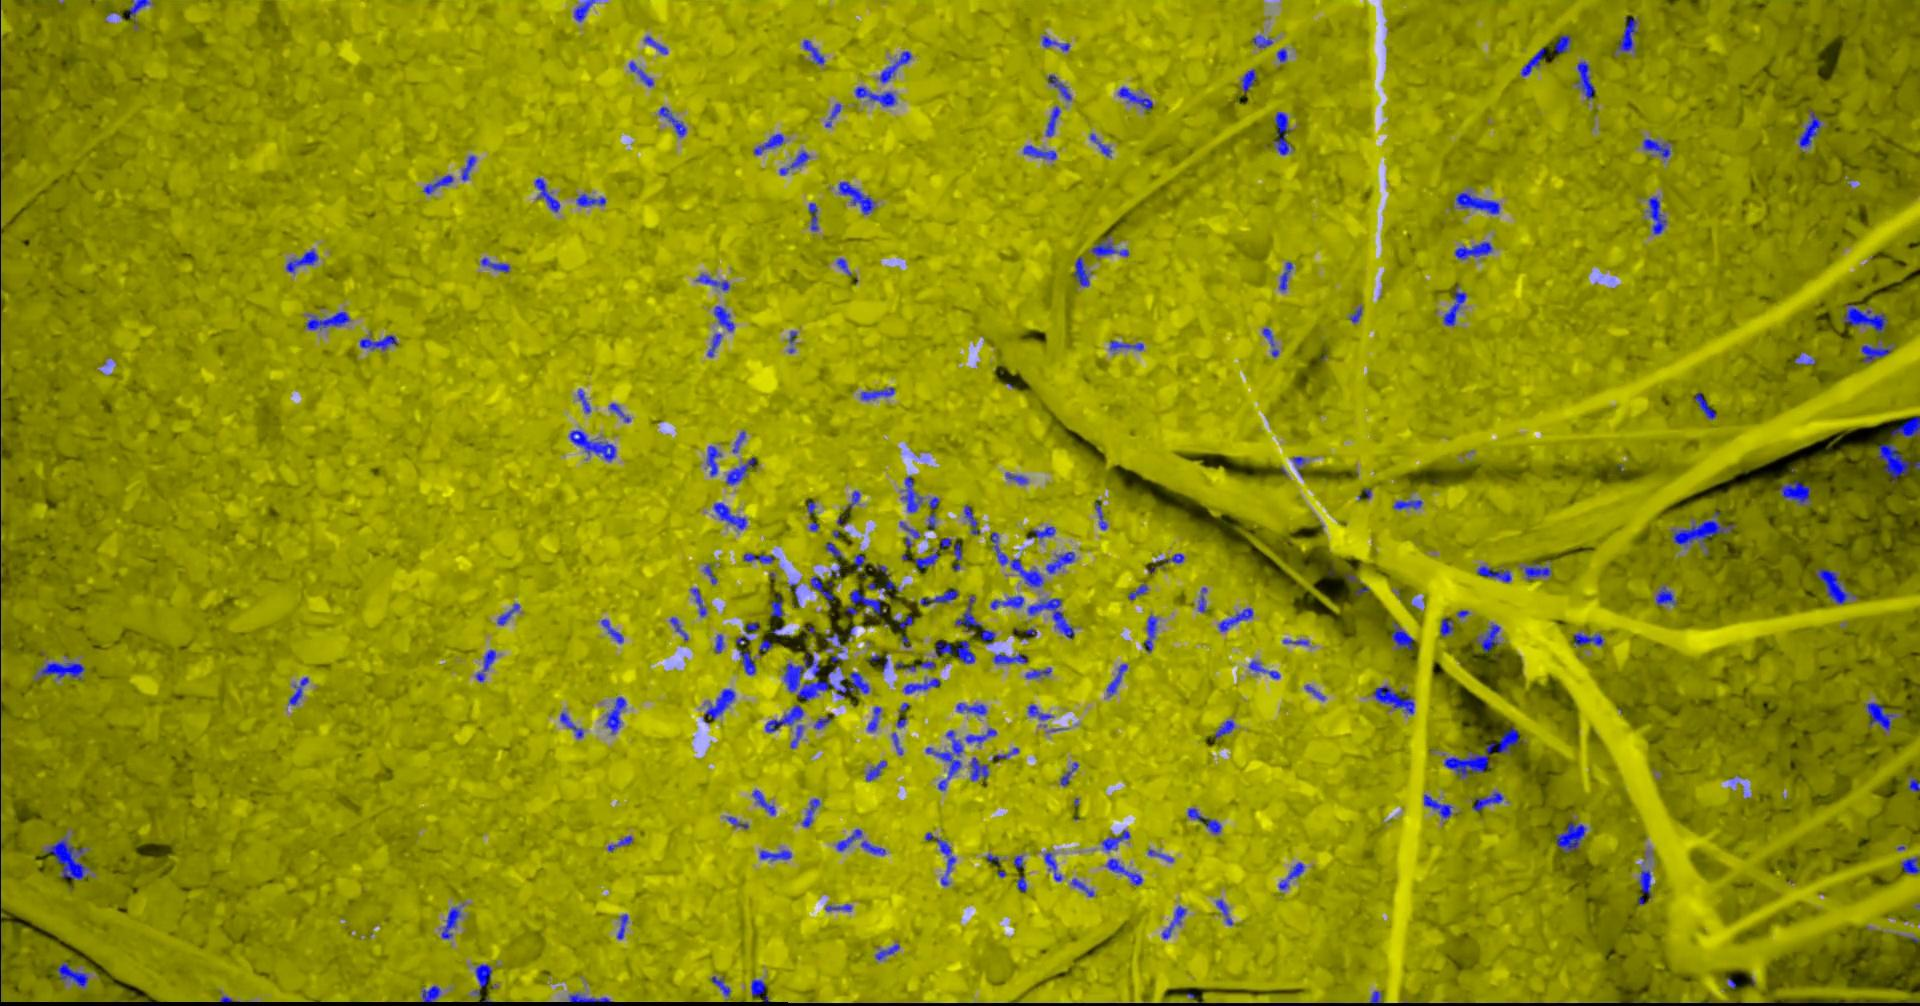ant: (1443, 727, 1523, 777), (989, 532, 1043, 586), (783, 652, 837, 700), (924, 730, 963, 790), (1671, 511, 1735, 546), (44, 837, 89, 879), (1027, 598, 1073, 638), (1877, 443, 1919, 483), (924, 832, 955, 885), (1815, 567, 1855, 605), (568, 429, 615, 460), (1843, 304, 1887, 333), (1371, 685, 1413, 714), (838, 180, 874, 213), (844, 589, 886, 616), (764, 704, 803, 732), (879, 50, 910, 83), (954, 594, 982, 631), (1105, 857, 1142, 885), (1455, 192, 1498, 213), (1443, 285, 1465, 325), (703, 688, 734, 719), (1556, 821, 1585, 852), (935, 640, 974, 663), (712, 502, 745, 528), (1187, 807, 1220, 833), (535, 177, 559, 212), (1218, 607, 1253, 631), (36, 662, 84, 680), (658, 105, 686, 136), (1117, 86, 1152, 111), (1798, 109, 1820, 147), (1272, 111, 1291, 154), (1865, 702, 1895, 730), (855, 86, 897, 105), (836, 671, 869, 695), (1161, 904, 1185, 937), (1091, 235, 1128, 257), (604, 696, 626, 733), (305, 311, 349, 329), (726, 457, 756, 484), (778, 150, 809, 175), (57, 962, 88, 987), (284, 249, 317, 272), (1575, 60, 1594, 99), (1520, 47, 1545, 76), (1779, 480, 1810, 504), (902, 476, 922, 512), (940, 537, 961, 570), (1106, 663, 1128, 696), (439, 906, 461, 939), (1277, 862, 1304, 889), (810, 575, 833, 606), (1648, 196, 1666, 234), (1454, 241, 1492, 259), (1423, 794, 1451, 818), (1390, 621, 1413, 650), (753, 133, 783, 155), (1617, 17, 1636, 51), (475, 649, 495, 681), (750, 789, 775, 815), (1045, 551, 1074, 573), (919, 588, 957, 605), (1470, 791, 1503, 810), (629, 61, 653, 86), (559, 713, 583, 738), (1048, 74, 1070, 100), (359, 334, 396, 351), (422, 174, 453, 193), (1101, 829, 1129, 851), (1890, 417, 1919, 437), (1476, 565, 1511, 582), (599, 619, 623, 643), (1693, 392, 1716, 418), (712, 305, 734, 332), (1478, 624, 1498, 652), (288, 677, 309, 705), (695, 273, 729, 290), (903, 678, 940, 694), (1043, 852, 1062, 882), (836, 828, 861, 850), (899, 521, 919, 547), (1248, 661, 1279, 678), (1642, 138, 1670, 158), (735, 621, 758, 644), (573, 0, 597, 22), (803, 39, 824, 64), (1072, 257, 1090, 286), (867, 575, 897, 593), (801, 798, 819, 827), (1637, 869, 1651, 904), (1090, 133, 1111, 156), (914, 547, 938, 568), (1144, 614, 1157, 652), (1862, 344, 1891, 361), (1524, 561, 1550, 579), (1346, 573, 1368, 594), (706, 445, 721, 475), (497, 603, 519, 624), (965, 728, 996, 743), (1023, 145, 1057, 159), (690, 588, 706, 616), (990, 594, 1023, 608), (643, 36, 667, 55), (969, 757, 988, 781), (1060, 761, 1078, 786), (874, 942, 899, 960), (480, 257, 509, 272), (1262, 326, 1277, 356), (865, 760, 886, 780), (860, 387, 894, 400), (1045, 105, 1059, 136), (607, 835, 632, 851), (1215, 899, 1232, 925), (710, 976, 730, 996), (608, 403, 630, 422), (1655, 586, 1676, 605), (750, 979, 770, 1001), (963, 504, 977, 533), (1573, 633, 1603, 647), (127, 0, 150, 18), (1043, 36, 1069, 51), (669, 617, 687, 640), (1070, 878, 1093, 895), (824, 103, 841, 127), (739, 650, 756, 674), (475, 963, 491, 987), (927, 495, 938, 530), (992, 652, 1026, 663), (1156, 553, 1183, 567), (1027, 704, 1053, 719), (860, 840, 885, 855), (568, 993, 611, 1002), (1279, 260, 1291, 290), (866, 706, 881, 730), (759, 848, 791, 860), (461, 155, 475, 180), (577, 193, 604, 206), (1241, 69, 1256, 91), (1109, 340, 1143, 351), (992, 747, 1018, 760), (1147, 848, 1173, 861), (577, 387, 590, 412), (1304, 683, 1324, 700), (1214, 720, 1234, 737), (956, 702, 985, 714), (707, 333, 721, 356), (1095, 500, 1106, 528), (422, 984, 439, 1002), (1900, 856, 1919, 873), (1392, 499, 1422, 509), (743, 553, 773, 563), (904, 661, 935, 671), (770, 593, 782, 617), (790, 724, 803, 748), (1025, 667, 1051, 678), (731, 431, 745, 452), (808, 202, 818, 231), (1031, 526, 1054, 539), (1128, 584, 1147, 600), (1291, 456, 1305, 476), (616, 913, 627, 937), (703, 563, 716, 584), (726, 815, 748, 828), (825, 541, 842, 558), (1554, 34, 1570, 52), (836, 258, 851, 276), (844, 490, 858, 509), (1439, 617, 1453, 636), (1252, 36, 1272, 47), (1004, 473, 1027, 483), (980, 627, 996, 643), (891, 732, 902, 754), (1197, 587, 1206, 612), (758, 639, 772, 654), (1349, 306, 1361, 323), (814, 715, 830, 728), (824, 903, 851, 911), (853, 553, 865, 569), (898, 615, 912, 627), (1283, 639, 1308, 645), (1370, 991, 1382, 1005), (714, 634, 723, 652), (1016, 875, 1026, 890), (1276, 48, 1288, 61), (1909, 779, 1919, 791), (1013, 855, 1023, 868)
